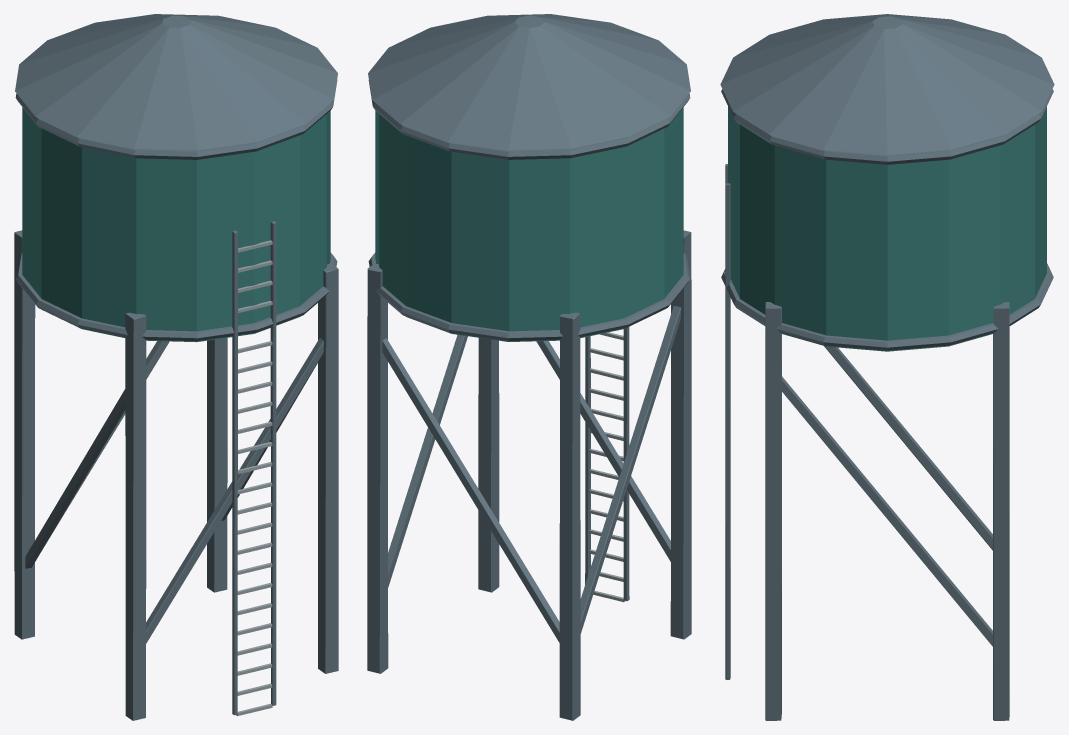
Rendered from architecture-water-tower.lod1.glb.
3 views of the same model, side by side, from view 1: azimuth 30°, elevation 25°; view 2: azimuth 150°, elevation 25°; view 3: azimuth 270°, elevation 25° (orthographic). The views are drawn at different scales.
Parts seen in each view (by area): view 1: architecture-water-tower__body; view 2: architecture-water-tower__body; view 3: architecture-water-tower__body.
Boxes of the visible parts, x1,y1,x2,y2 form: architecture-water-tower__body: (14,14,338,720); architecture-water-tower__body: (367,14,691,720); architecture-water-tower__body: (720,14,1054,720).
Size of the model in its own units: 4.4 by 9.42 by 4.4.
